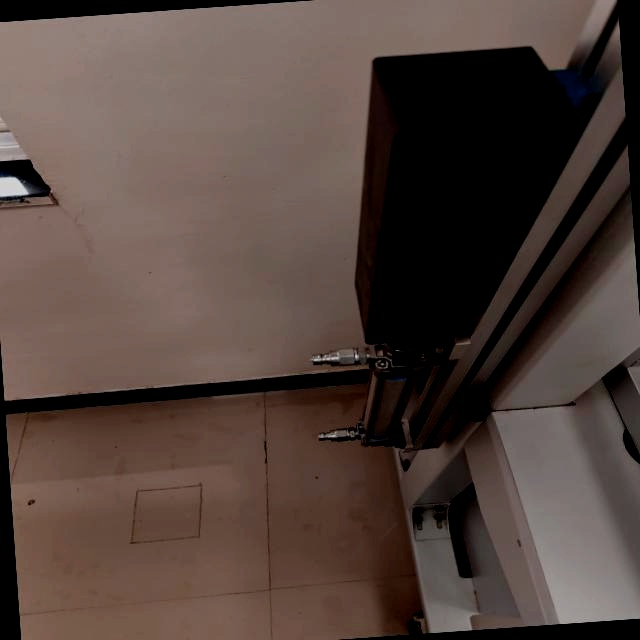load: (282, 37, 628, 458)
